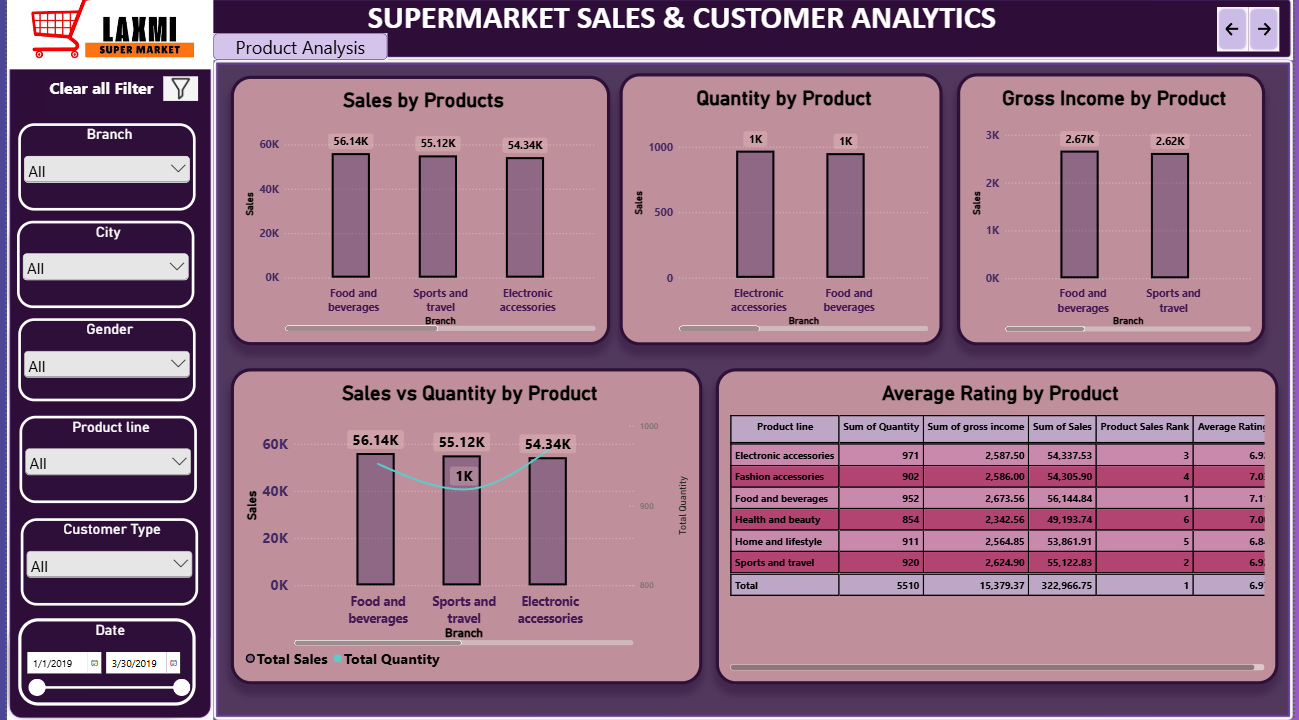

This screenshot's page, from the dashboard's own definition file:
{"tool":"powerbi","page":{"name":"Product Analysis","canvas":[1920,1080],"ordinal":1},"visuals":[{"type":"shape","box":[0,0,308,1080],"z":0},{"type":"slicer","title":"Date","fields":{"Values":["Sales.Date"]},"box":[16,926,265,130],"z":0,"group":"g1"},{"type":"shape","box":[0,0,1920,94],"z":1000},{"type":"slicer","title":"Customer Type","fields":{"Values":["Sales.Customer type"]},"box":[20,778,265,130],"z":1000,"group":"g1"},{"type":"textbox","box":[286,0,1422,70],"z":2000},{"type":"slicer","title":"Gender","fields":{"Values":["Sales.Gender"]},"box":[16,480,265,124],"z":2000,"group":"g1"},{"type":"image","box":[0,0,308,108],"z":3000},{"type":"slicer","title":"City","fields":{"Values":["Sales.City"]},"box":[14,334,265,130],"z":3000,"group":"g1"},{"type":"shape","box":[308,94,1612,986],"z":4000},{"type":"slicer","title":"Product line","fields":{"Values":["Sales.Product line"]},"box":[18,624,265,130],"z":4000,"group":"g1"},{"type":"actionButton","box":[1852,14,46.7,66.7],"z":5000},{"type":"slicer","title":"Branch","fields":{"Values":["Sales.Branch"]},"box":[16,188,265,130],"z":5000,"group":"g1"},{"type":"actionButton","box":[1806,14,46,66],"z":6000},{"type":"group","id":"g1","title":"Group 1","box":[14,188,271,868],"z":7000},{"type":"textbox","box":[54,120,180,60],"z":8000},{"type":"shape","box":[308,54,260,40],"z":9000},{"type":"clusteredColumnChart","title":"Sales by Products","fields":{"Category":["Sales.Product line"],"Y":["Measure.Total Sales"]},"box":[334,118,566,402],"z":10000},{"type":"clusteredColumnChart","title":"Gross Income by Product","fields":{"Category":["Sales.Product line"],"Y":["Measure.Total Gross Income"]},"box":[1418,114,460,406.7],"z":11000},{"type":"lineClusteredColumnComboChart","title":"Quantity by Product","fields":{"Category":["Sales.Product line"],"Y":["Measure.Total Quantity"]},"box":[914,114,482,406],"z":12000},{"type":"tableEx","title":"Average Rating by Product","fields":{"Values":["Sales.Product line","Sum(Sales.Quantity)","Sum(Sales.gross income)","Sum(Sales.Sales)","Measure.Product Sales Rank","Measure.Average Rating"]},"box":[1058,554,840,472],"z":13000},{"type":"lineClusteredColumnComboChart","title":"Sales vs Quantity by Product","fields":{"Category":["Sales.Product line"],"Y":["Measure.Total Sales"],"Y2":["Measure.Total Quantity"]},"box":[334,554,704,472],"z":14000},{"type":"image","box":[234,118,52,38],"z":15000}]}

Visuals, with their boxes in screenshot pixels (x1, y1, x2, y2), scaled from the page's 1920x1080 canvas onto the 1299x720 screenshot:
shape: <box>0,0,208,719</box>
"Date" slicer: <box>11,617,190,704</box>
shape: <box>0,0,1298,63</box>
"Customer Type" slicer: <box>14,519,193,605</box>
textbox: <box>193,0,1156,47</box>
"Gender" slicer: <box>11,320,190,403</box>
image: <box>0,0,208,72</box>
"City" slicer: <box>9,223,189,309</box>
shape: <box>208,63,1298,719</box>
"Product line" slicer: <box>12,416,191,503</box>
actionButton: <box>1253,9,1285,54</box>
"Branch" slicer: <box>11,125,190,212</box>
actionButton: <box>1222,9,1253,53</box>
"Group 1" group: <box>9,125,193,704</box>
textbox: <box>37,80,158,120</box>
shape: <box>208,36,384,63</box>
"Sales by Products" clusteredColumnChart: <box>226,79,609,347</box>
"Gross Income by Product" clusteredColumnChart: <box>959,76,1271,347</box>
"Quantity by Product" lineClusteredColumnComboChart: <box>618,76,944,347</box>
"Average Rating by Product" tableEx: <box>716,369,1284,684</box>
"Sales vs Quantity by Product" lineClusteredColumnComboChart: <box>226,369,702,684</box>
image: <box>158,79,193,104</box>
